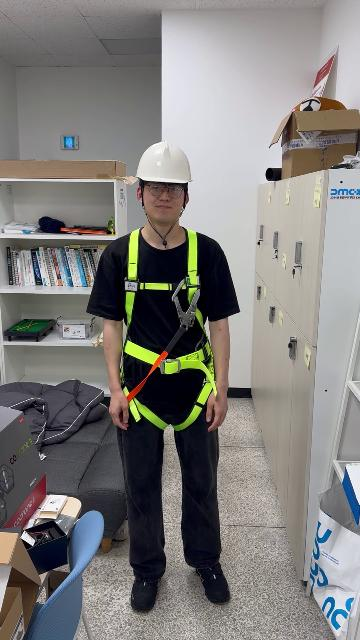helmet_worn: (136, 140, 194, 186)
shoe_worn: (188, 557, 238, 608), (130, 557, 168, 614)
vest_worn: (122, 224, 218, 433)
